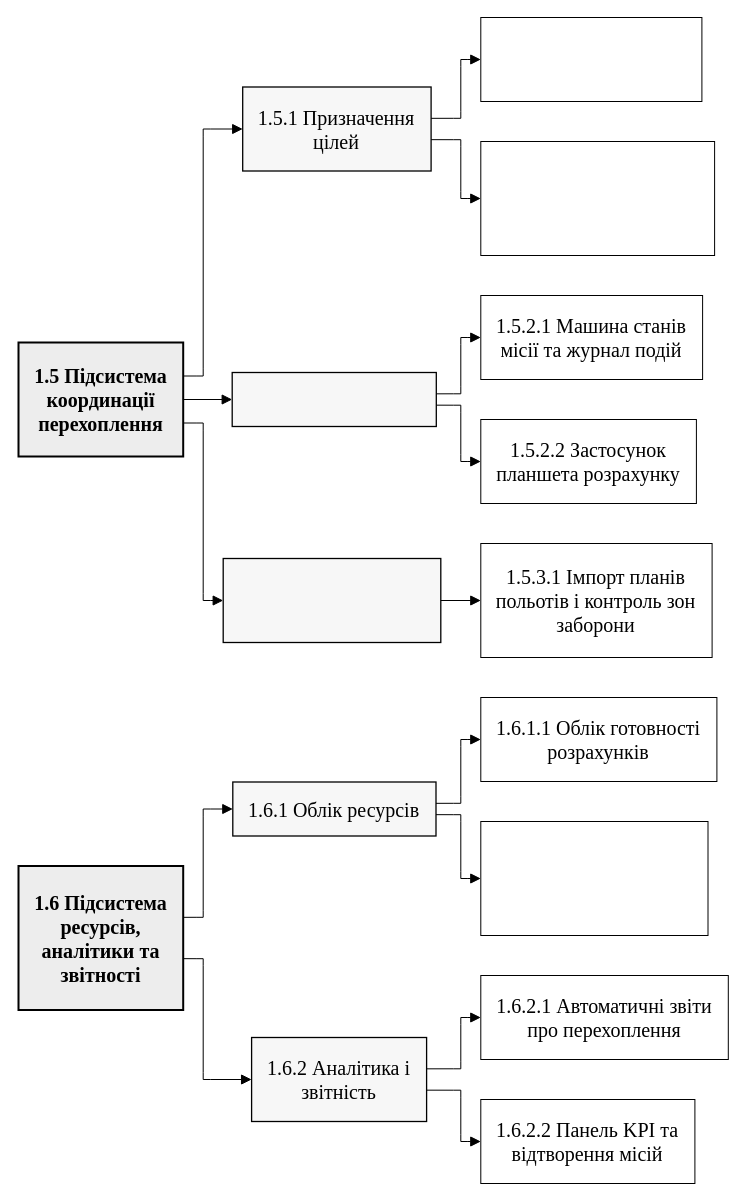
The diagram is 746 pixels wide and 1201 high, and some of its shapes have lost their labels. The centre of each missing label's shape, as x and y in pixels:
"1.5.1.1 Підбір розрахунку-кандидата" belongs at point 591,59.
"1.5.1.2 Санкціонування пуску за правилом двох осіб" belongs at point 597,198.
"1.5.2 Супровід місій" belongs at point 333,399.
"1.5.3 Деконфлікція повітряного простору" belongs at point 331,600.
"1.6.1.2 Облік перехоплювачів, АКБ і запасів" belongs at point 594,878.
